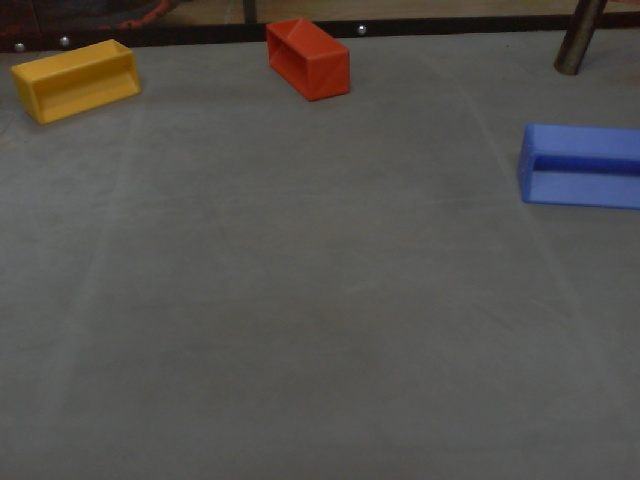BlueSample: (514, 119, 640, 212)
RedSample: (263, 16, 353, 106)
YellowSample: (11, 34, 143, 130)
